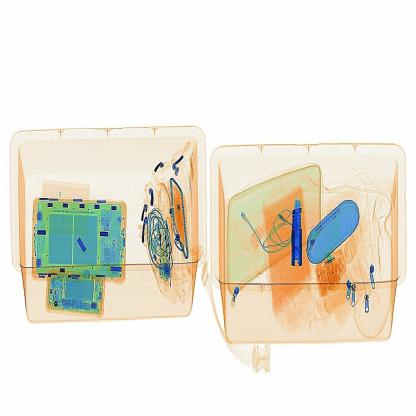pliers: (280, 188, 312, 276)
